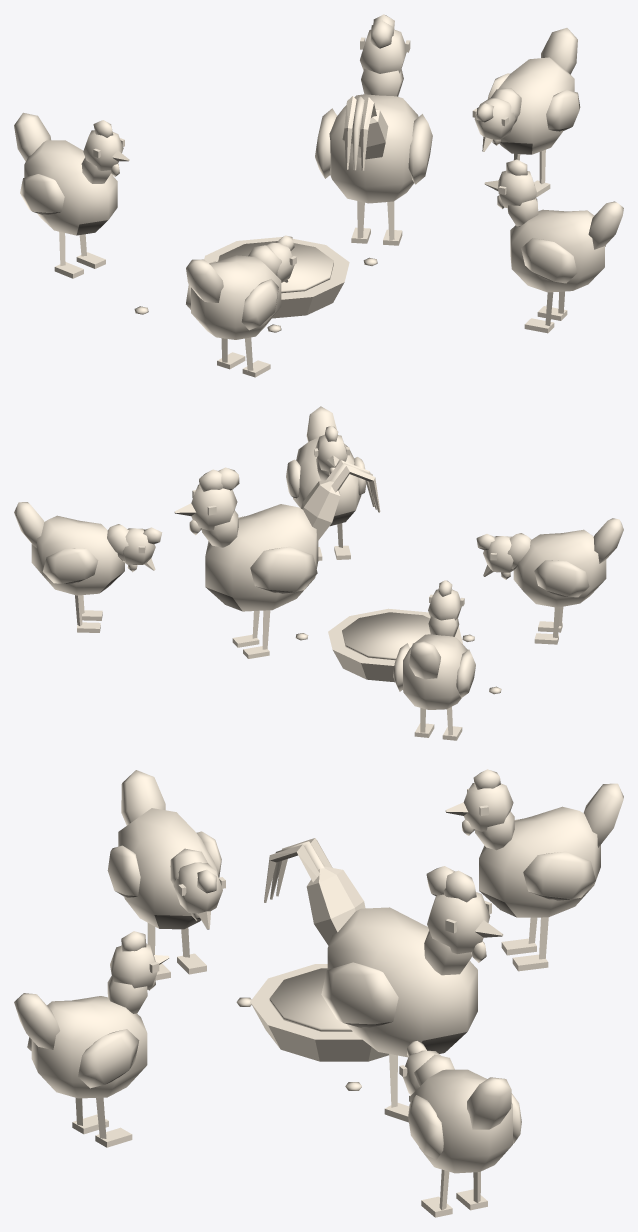
Rendered from SM_VK_Animal_Chickens.fbx.
The picture shows the model from 3 angles, top to bottom: view 1: azimuth 30°, elevation 25°; view 2: azimuth 150°, elevation 25°; view 3: azimuth 270°, elevation 25°; orthographic projection. The views are drawn at different scales.
Parts seen in each view (by area): view 1: SM_VK_Animal_Chickens.001; view 2: SM_VK_Animal_Chickens.001; view 3: SM_VK_Animal_Chickens.001.
Part boxes in pixels (bbox=[...]): SM_VK_Animal_Chickens.001: bbox=[14, 14, 623, 377]; SM_VK_Animal_Chickens.001: bbox=[14, 406, 623, 740]; SM_VK_Animal_Chickens.001: bbox=[14, 769, 623, 1217].
Bounding box in the file's own units: 1.91 × 0.7131 × 1.56.
